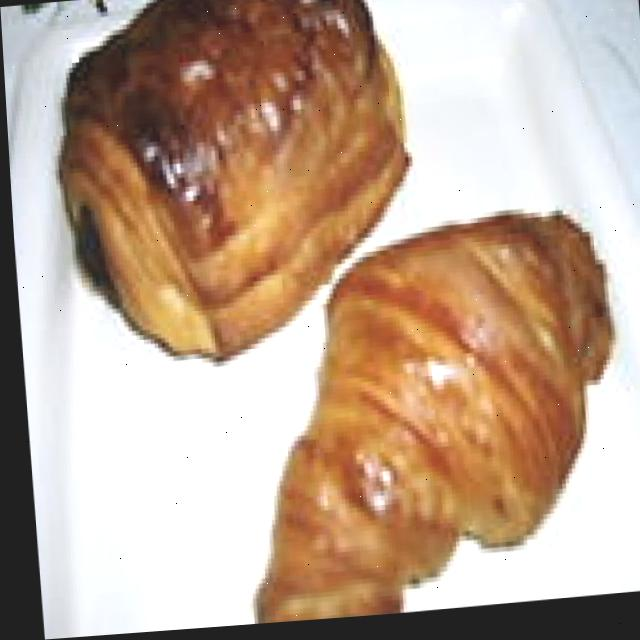面包点心: (201, 198, 640, 629)
